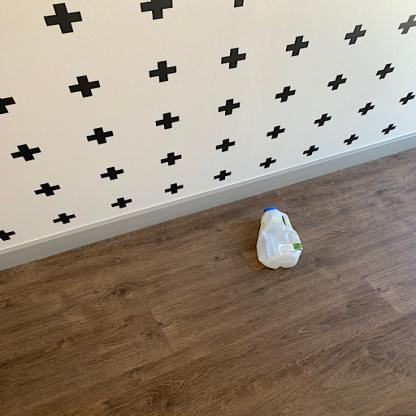trash: (256, 206, 307, 272)
